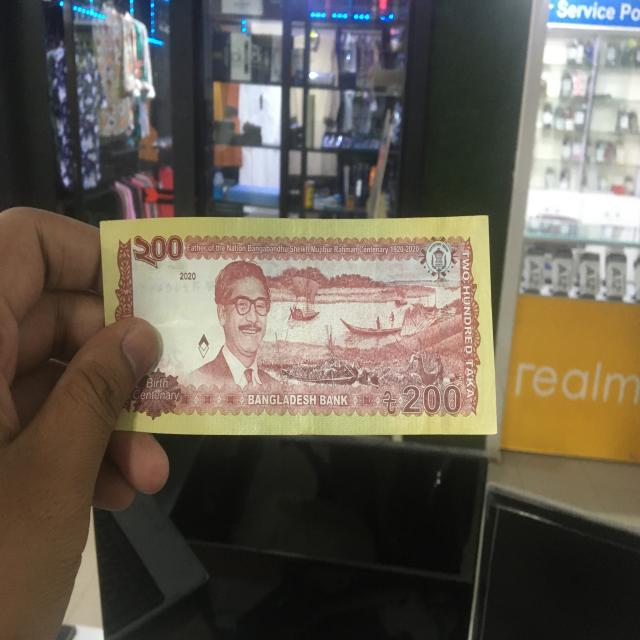Taka: (99, 218, 504, 435)
